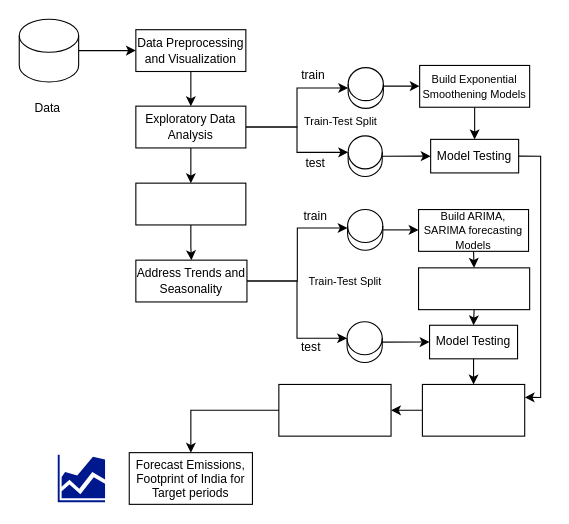
The diagram is 569 pixels wide and 524 high, and some of its shapes have lost their labels. The shapes that lost their labels are listed below. From the top down, each one's centre as x and y in pixels, then its label:
pixel 190 203: Check Stationarity
pixel 473 288: Parameter Optimization (Grid Search)
pixel 334 409: Comparison of Predictions and Forecasts of models
pixel 473 409: Model Evaluation (RMSE, AIC, MAE, MAPE)
